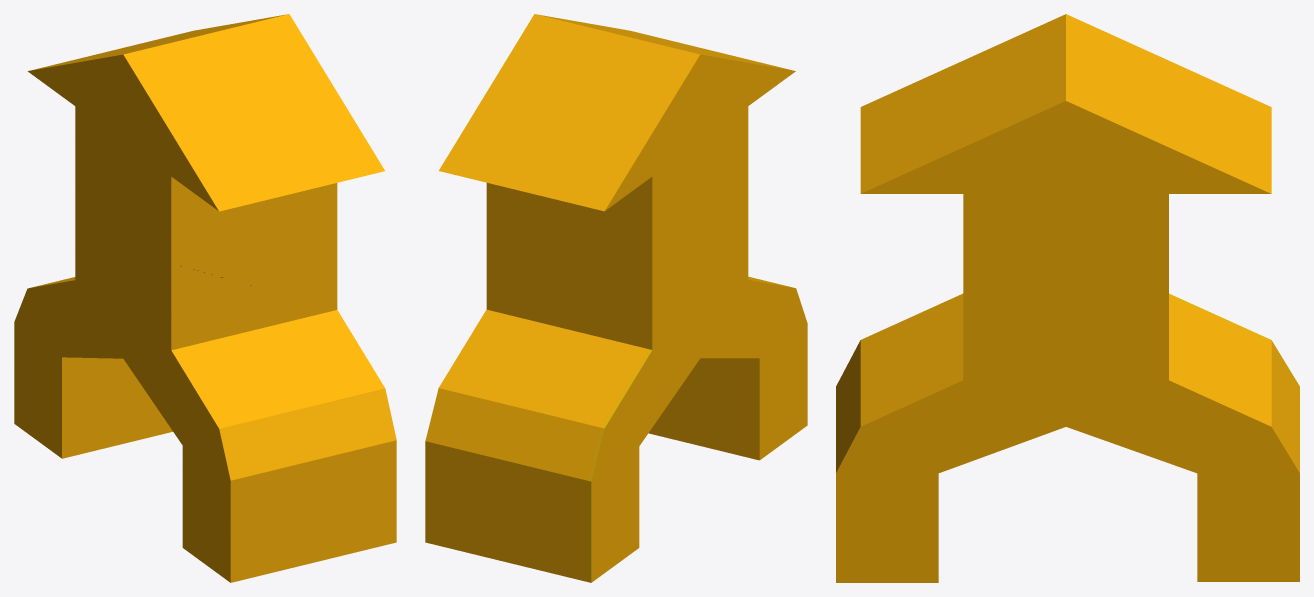
The model's file is Merge.glb.
3 views of the same model, side by side, from view 1: azimuth 30°, elevation 25°; view 2: azimuth 150°, elevation 25°; view 3: azimuth 270°, elevation 25° (orthographic). The views are drawn at different scales.
Parts seen in each view (by area): view 1: Cube; view 2: Cube; view 3: Cube.
Part boxes in pixels (left/top/right/bottom): Cube: left=14, top=14, right=396, bottom=582; Cube: left=425, top=14, right=807, bottom=582; Cube: left=836, top=14, right=1299, bottom=582.
Size of the model in its own units: 0.4 by 1.04 by 0.903.
1 material, 1 textured.
